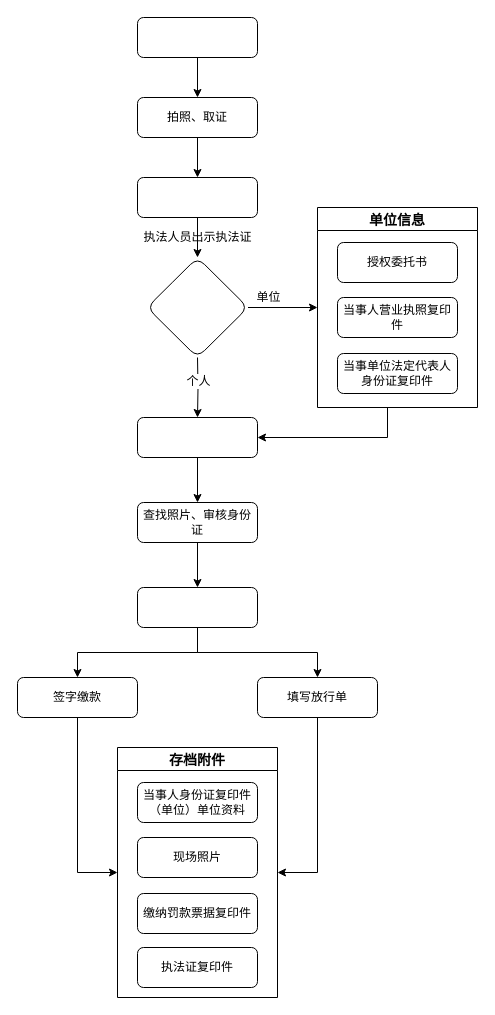
Image size: 495x1015. Some labels were removed from this diagram. The shapes that lost their labels are listed below. From the top down, each one's centre as x and y in pixels, then its label:
the point at 197,37: 案件上报
the point at 197,197: 简易流程
the point at 197,307: 是否机构单位
the point at 197,437: 当事人身份证复印件
the point at 197,607: 填写当场处罚决定书
